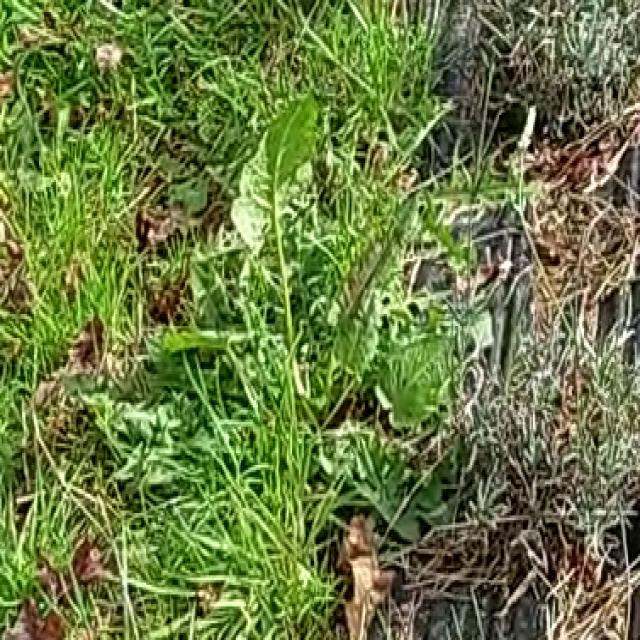organic waste: (166, 115, 423, 434)
